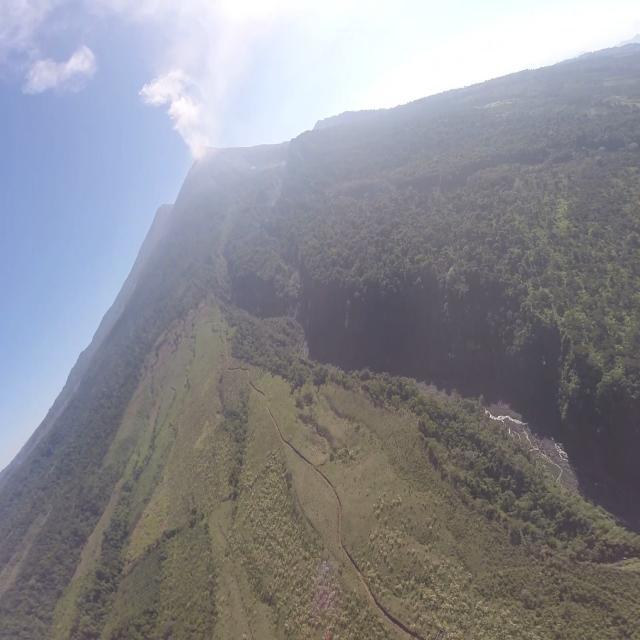Plume: (140, 70, 208, 152)
Summit: (186, 138, 222, 178)
